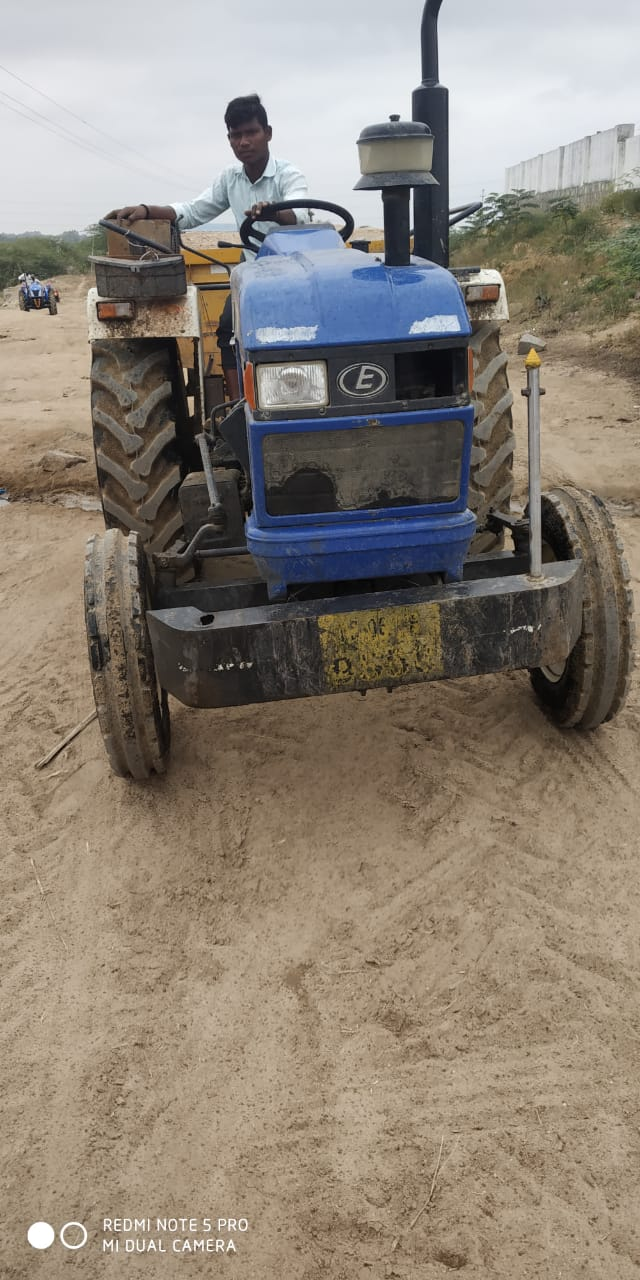license_plate: (315, 610, 462, 696)
